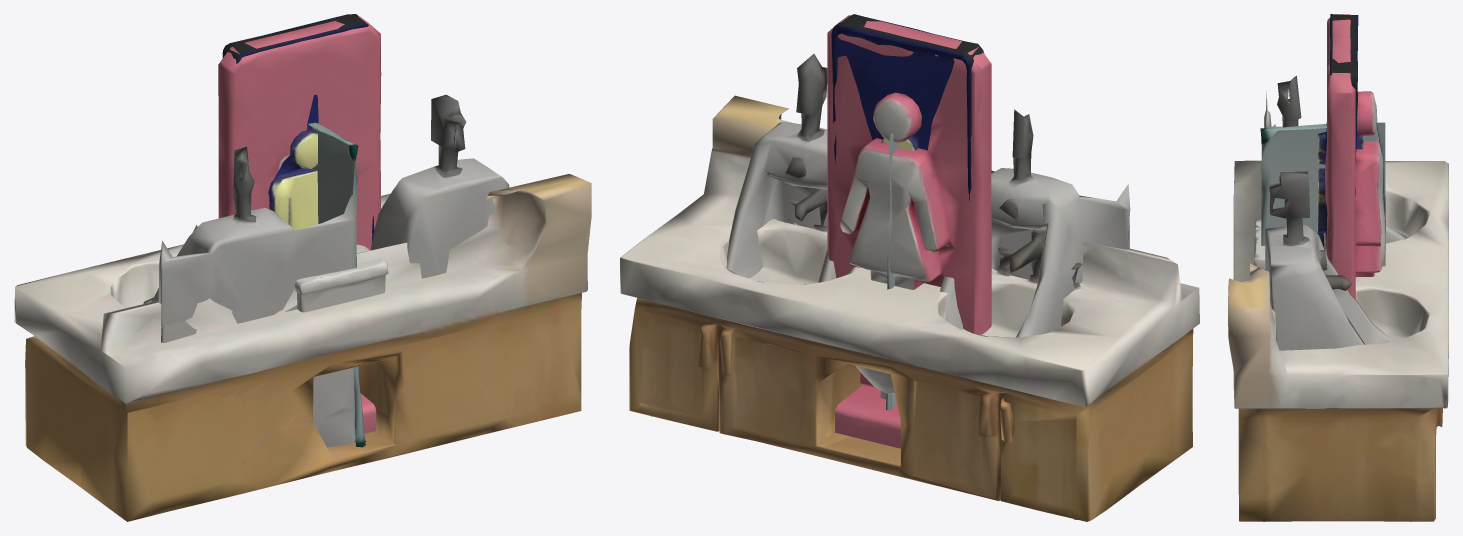
File: restrooms.glb
3 views of the same model, side by side, from view 1: azimuth 30°, elevation 25°; view 2: azimuth 150°, elevation 25°; view 3: azimuth 270°, elevation 25° (orthographic). The views are drawn at different scales.
Parts seen in each view (by area): view 1: tripo_node_093d5032-5650-4c02-b60c-7111b835d330, tripo_node_4ea6cd8d-0569-4f69-b96c-c89546639471, tripo_node_c2026b78-7065-4de1-ab9b-a476ea6038f5, tripo_node_fdcf8b80-3734-4c04-9cbe-c735c1f8e5a8, tripo_node_2a846730-bcd4-4a6e-8182-6a3b4a916a69; view 2: tripo_node_093d5032-5650-4c02-b60c-7111b835d330, tripo_node_c2026b78-7065-4de1-ab9b-a476ea6038f5, tripo_node_4ea6cd8d-0569-4f69-b96c-c89546639471, tripo_node_fdcf8b80-3734-4c04-9cbe-c735c1f8e5a8; view 3: tripo_node_093d5032-5650-4c02-b60c-7111b835d330, tripo_node_4ea6cd8d-0569-4f69-b96c-c89546639471, tripo_node_c2026b78-7065-4de1-ab9b-a476ea6038f5, tripo_node_fdcf8b80-3734-4c04-9cbe-c735c1f8e5a8, tripo_node_2a846730-bcd4-4a6e-8182-6a3b4a916a69.
Boxes of the visible parts, <box> form: tripo_node_093d5032-5650-4c02-b60c-7111b835d330: <box>14,174,591,521</box>; tripo_node_4ea6cd8d-0569-4f69-b96c-c89546639471: <box>143,94,509,447</box>; tripo_node_c2026b78-7065-4de1-ab9b-a476ea6038f5: <box>218,16,381,433</box>; tripo_node_fdcf8b80-3734-4c04-9cbe-c735c1f8e5a8: <box>222,14,374,241</box>; tripo_node_2a846730-bcd4-4a6e-8182-6a3b4a916a69: <box>295,244,388,312</box>; tripo_node_093d5032-5650-4c02-b60c-7111b835d330: <box>620,95,1199,521</box>; tripo_node_c2026b78-7065-4de1-ab9b-a476ea6038f5: <box>827,15,991,448</box>; tripo_node_4ea6cd8d-0569-4f69-b96c-c89546639471: <box>726,53,1130,410</box>; tripo_node_fdcf8b80-3734-4c04-9cbe-c735c1f8e5a8: <box>831,14,984,200</box>; tripo_node_093d5032-5650-4c02-b60c-7111b835d330: <box>1228,124,1448,521</box>; tripo_node_4ea6cd8d-0569-4f69-b96c-c89546639471: <box>1260,75,1407,350</box>; tripo_node_c2026b78-7065-4de1-ab9b-a476ea6038f5: <box>1323,14,1385,299</box>; tripo_node_fdcf8b80-3734-4c04-9cbe-c735c1f8e5a8: <box>1317,14,1363,249</box>; tripo_node_2a846730-bcd4-4a6e-8182-6a3b4a916a69: <box>1253,219,1265,269</box>.
Bounding box in the file's own units: 1.95 × 1.6 × 0.8486.
5 materials, 5 textured.
